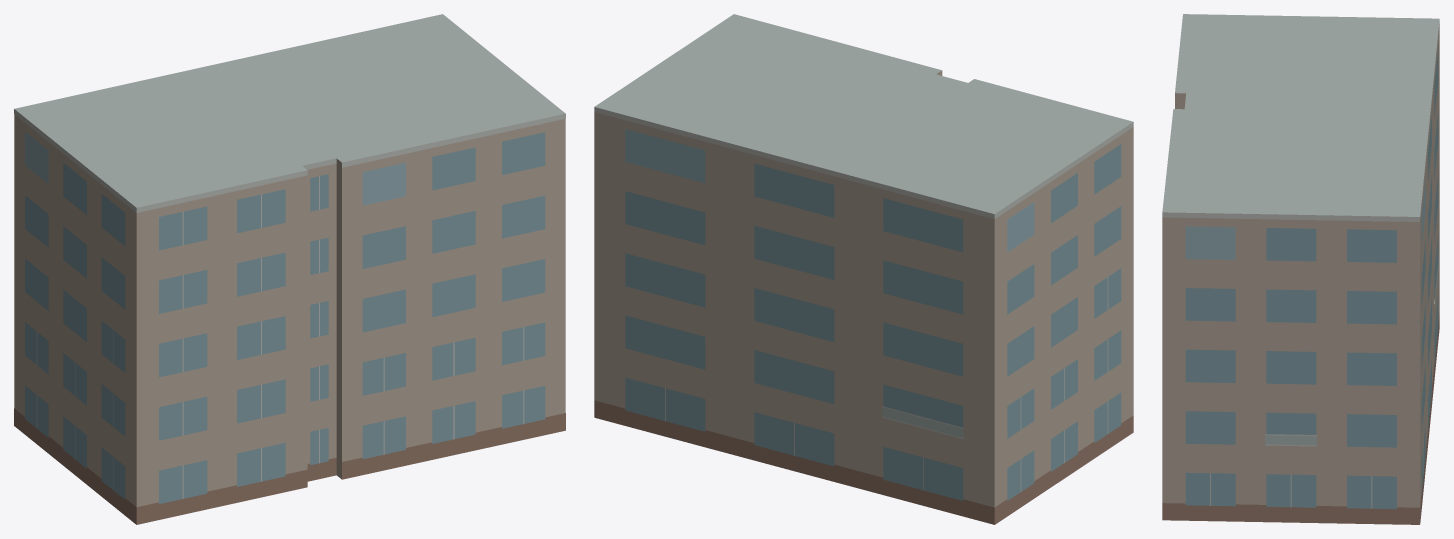
Rendered from survey-upis-33024879.glb.
3 views of the same model, side by side, from view 1: azimuth 30°, elevation 25°; view 2: azimuth 150°, elevation 25°; view 3: azimuth 270°, elevation 25° (orthographic). The views are drawn at different scales.
Visible parts, largest first — view 1: survey-upis-33024879.tmp; view 2: survey-upis-33024879.tmp; view 3: survey-upis-33024879.tmp.
Part boxes in pixels (box(x1,y1,x2,y2)): survey-upis-33024879.tmp: box(14, 14, 565, 524); survey-upis-33024879.tmp: box(594, 14, 1133, 524); survey-upis-33024879.tmp: box(1162, 14, 1439, 524).
Bounding box in the file's own units: 21.22 × 15 × 12.26.
